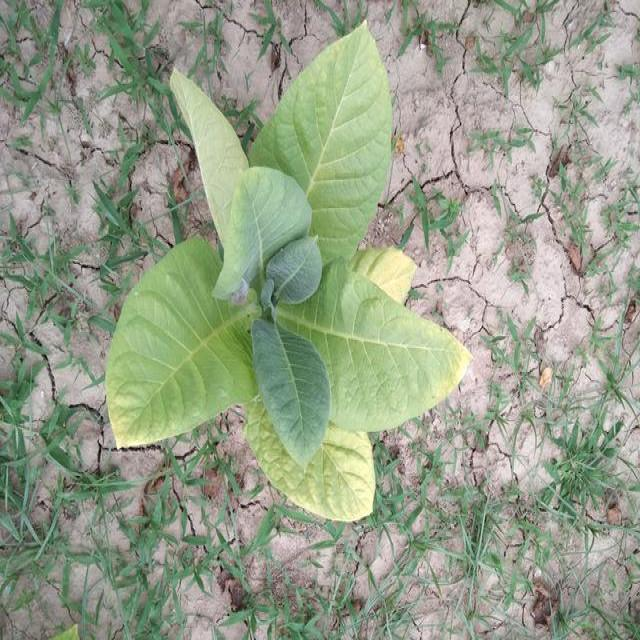crop: (103, 21, 474, 522)
